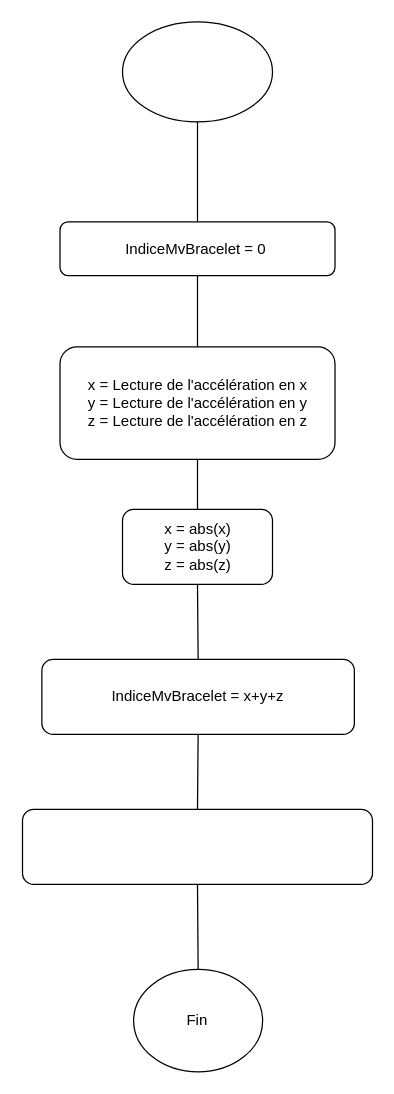
This 394x1094 diagram has some shape labels left out. The shapes that lost their labels are listed below. From the top down, each one's centre as x and y in pixels, then its label:
pixel 196 71: Début
pixel 196 846: EnvoiBluetooth de IndiceMvBracelet
